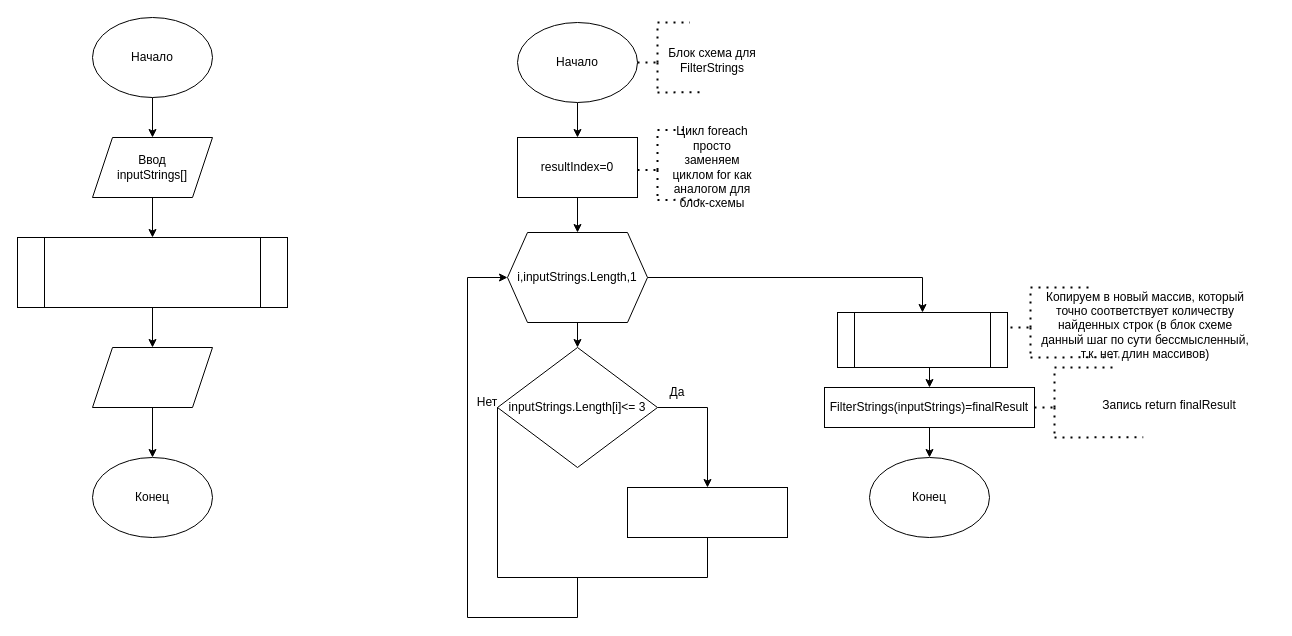
Image size: 1292x636. Some labels were removed from this diagram. Each missing label, with the centre of its shape:
Array.Copy(resultStrings, finalResult, resultIndex);: [922,340]
filteredStrings=FilterStrings(inputStrings): [152,272]
resultStrings[resultIndex] = s; resultIndex=resultIndex+1;: [707,512]
Вывод inputStrings[] filteredStrings[]: [152,377]
